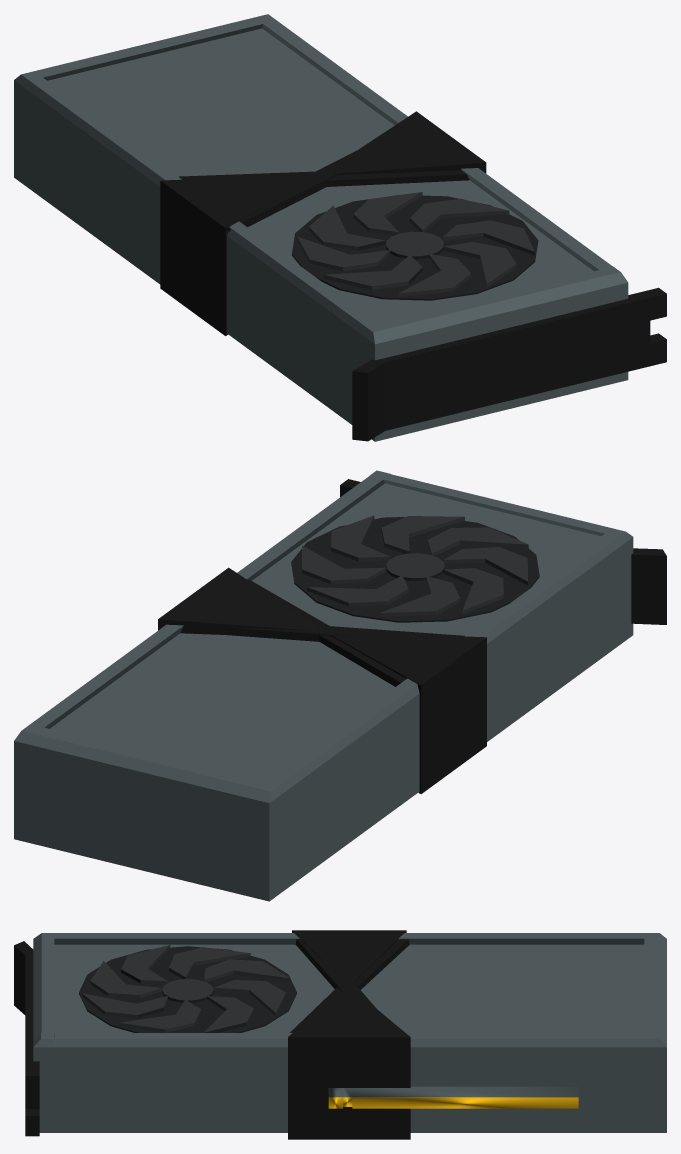
Rendered from video_card.fbx.
The picture shows the model from 3 angles, top to bottom: view 1: azimuth 30°, elevation 25°; view 2: azimuth 150°, elevation 25°; view 3: azimuth 270°, elevation 25°; orthographic projection. The views are drawn at different scales.
Visible parts, largest first — view 1: Cylinder.001, Cube.001; view 2: Cylinder.001, Cube.001; view 3: Cylinder.001, Cube.001.
Boxes of the visible parts, <box> form: Cylinder.001: <box>14,14,628,441</box>; Cube.001: <box>352,287,666,441</box>; Cylinder.001: <box>14,470,633,901</box>; Cube.001: <box>340,479,666,624</box>; Cylinder.001: <box>33,930,666,1139</box>; Cube.001: <box>14,941,578,1136</box>.
Bounding box in the file's own units: 25.35 × 8.97 × 51.8.
